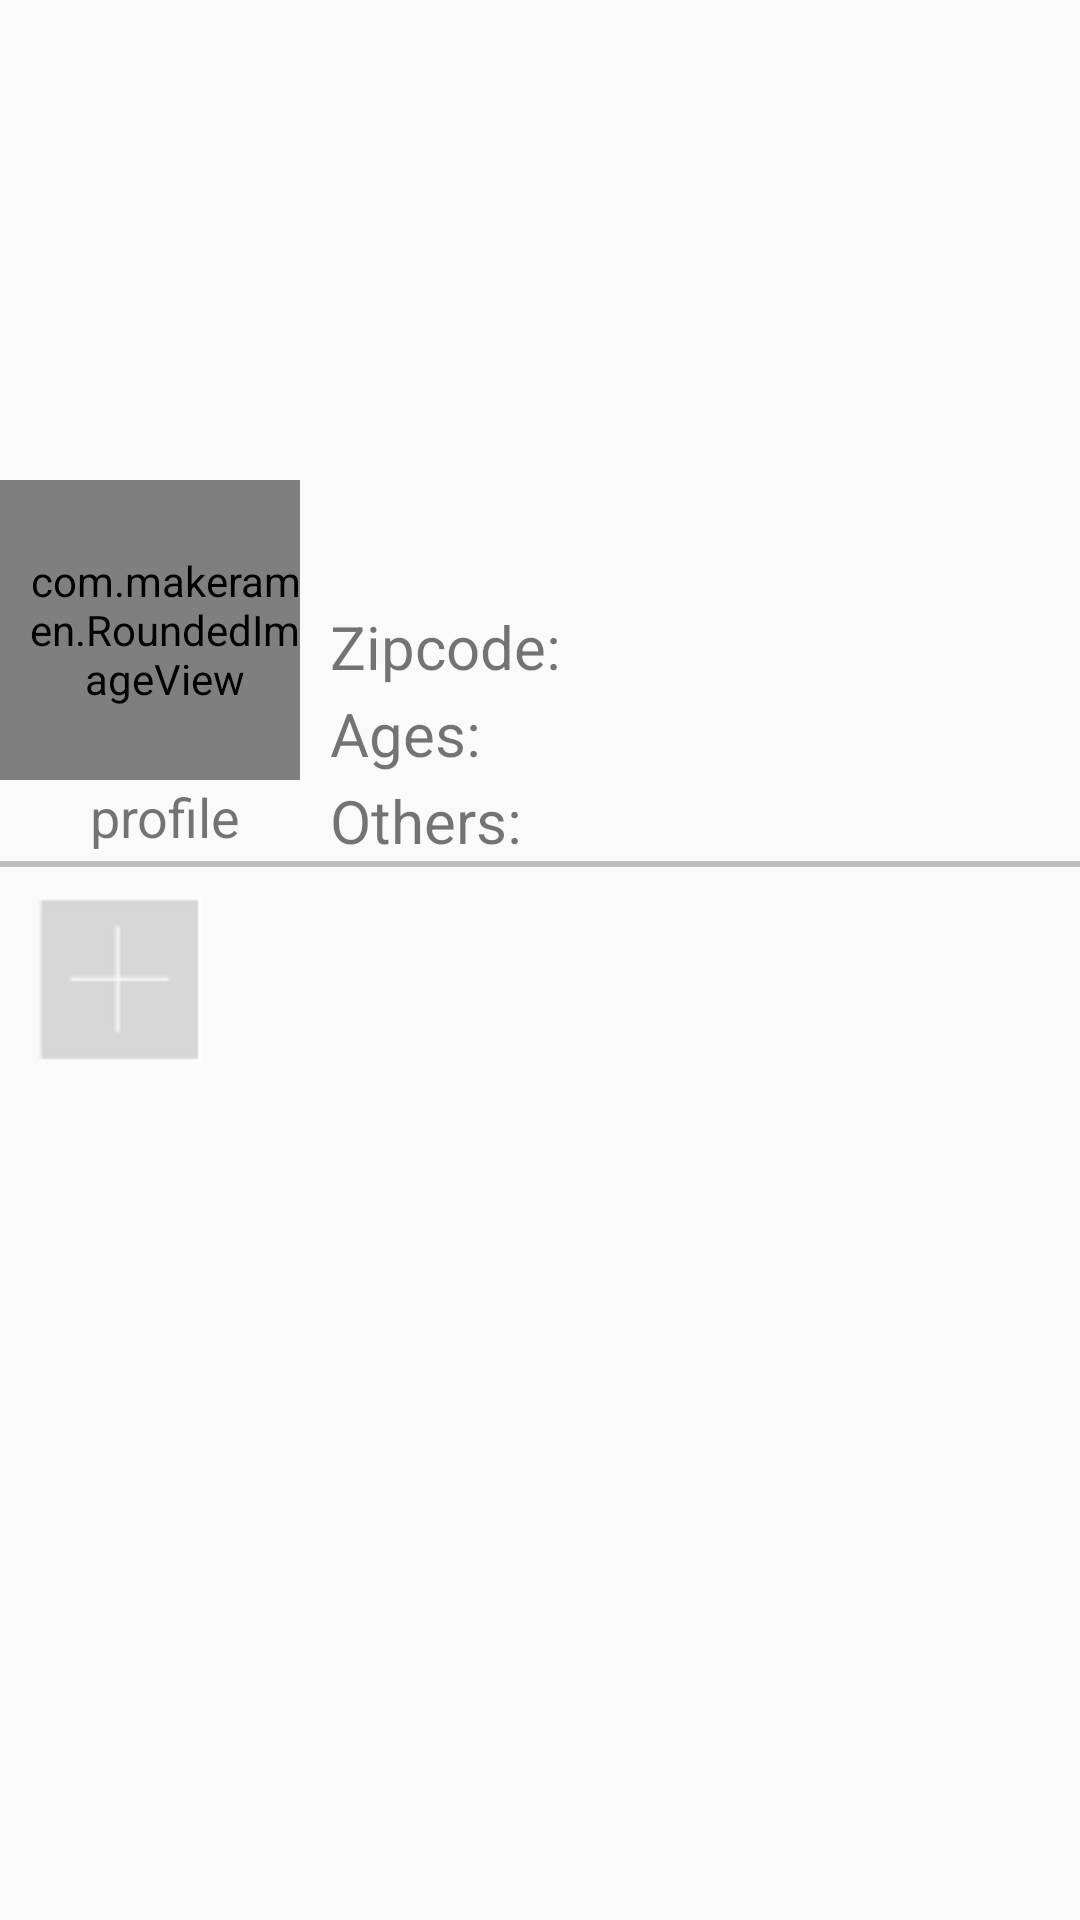

Named icons in this screenshot (1080w x 1920h) and their bounding boxes, [x1, y1, x2, y2]:
add: [42, 901, 197, 1058]
